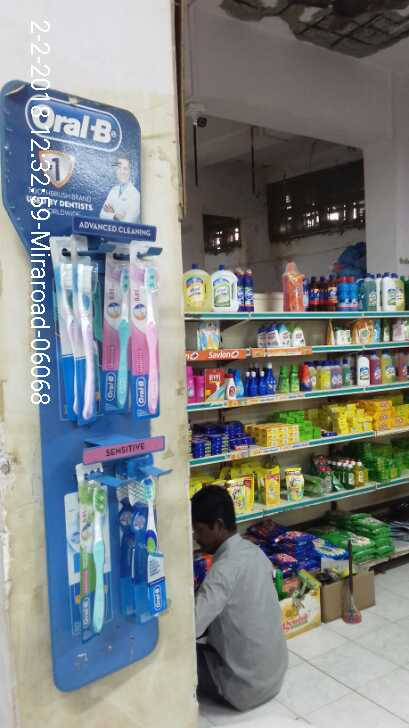oralb: (109, 257, 163, 426), (119, 469, 175, 616), (54, 261, 90, 425), (85, 484, 110, 628)
